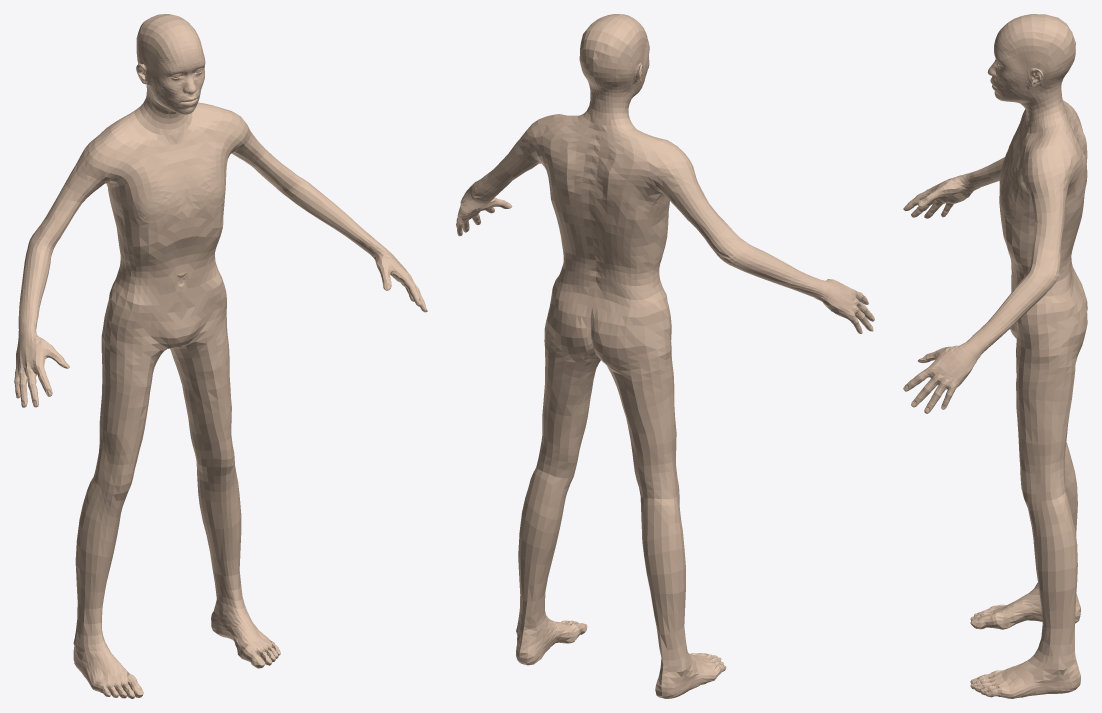
File: male-young-lean-low.glb
The picture shows the model from 3 angles, left to right: view 1: azimuth 30°, elevation 25°; view 2: azimuth 150°, elevation 25°; view 3: azimuth 270°, elevation 25°; orthographic projection.
Parts seen in each view (by area): view 1: world; view 2: world; view 3: world.
Boxes of the visible parts, box(x1,y1,x2,y2) form: world: box(14, 14, 427, 698); world: box(456, 14, 874, 698); world: box(903, 14, 1087, 698).
Bounding box in the file's own units: 1.24 × 1.89 × 0.4924.
